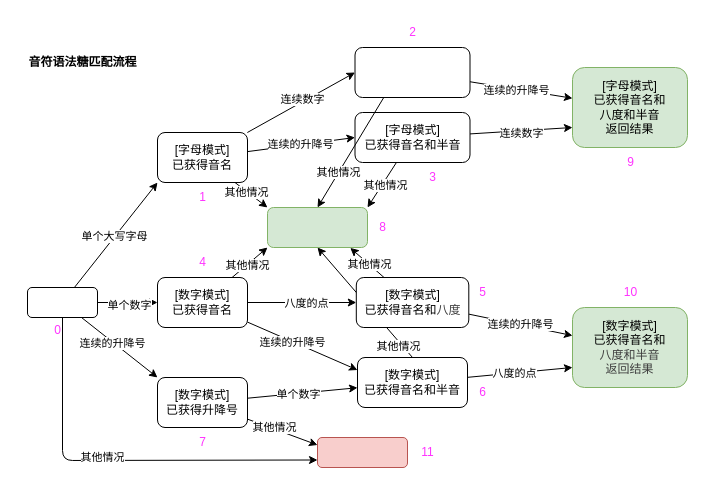
Some shapes in this 705 by 486 pixel diagram are drawn without their labels. Each missing label, with the box of its shape:
[字母模式] 已获得音名和八度: (354, 46, 470, 98)
START: (26, 286, 98, 318)
匹配失败: (316, 436, 408, 468)
匹配结束 返回结果: (266, 206, 368, 248)
